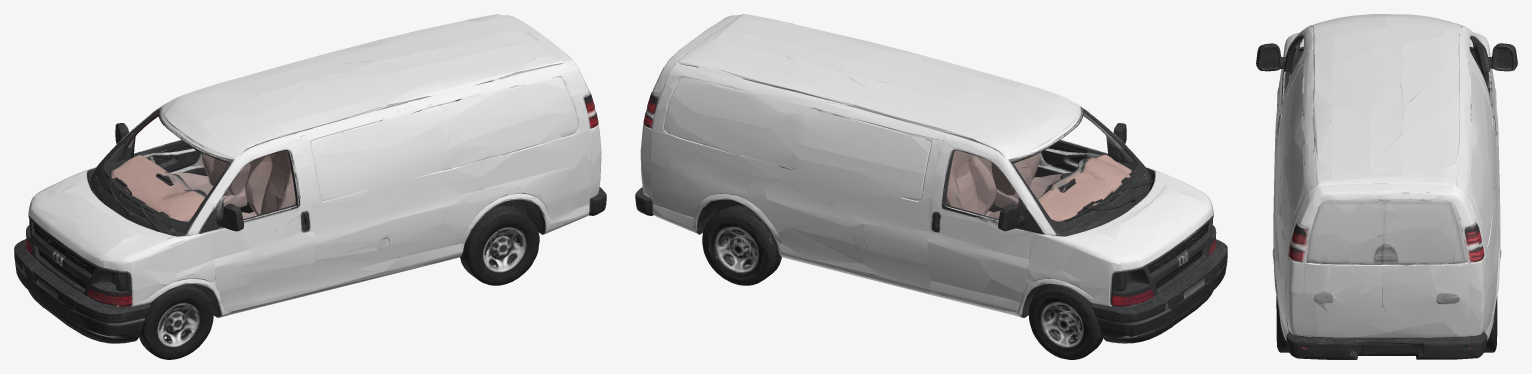
The picture shows the model from 3 angles, left to right: view 1: azimuth 30°, elevation 25°; view 2: azimuth 150°, elevation 25°; view 3: azimuth 270°, elevation 25°; orthographic projection. The views are drawn at different scales.
Size of the model in its own units: 1.9 by 0.691 by 0.7791.
Materials: 1 (1 with a texture image).
